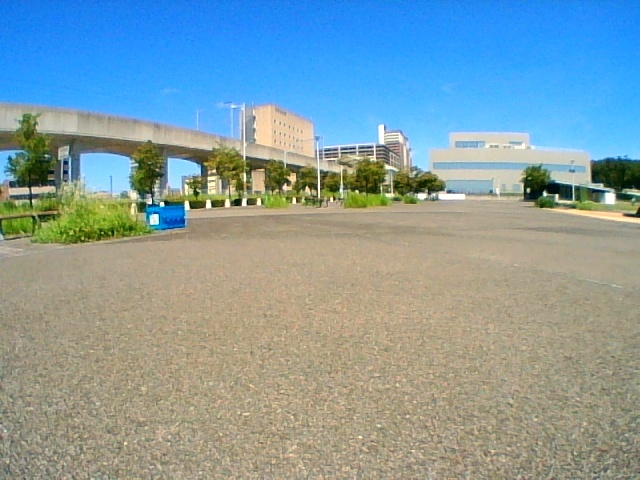blue_box: (147, 207, 185, 228)
tag: (151, 214, 158, 225)
